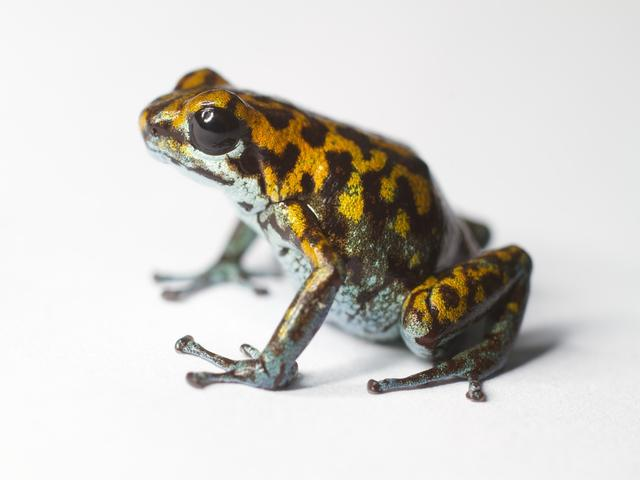frog: (107, 13, 580, 438)
